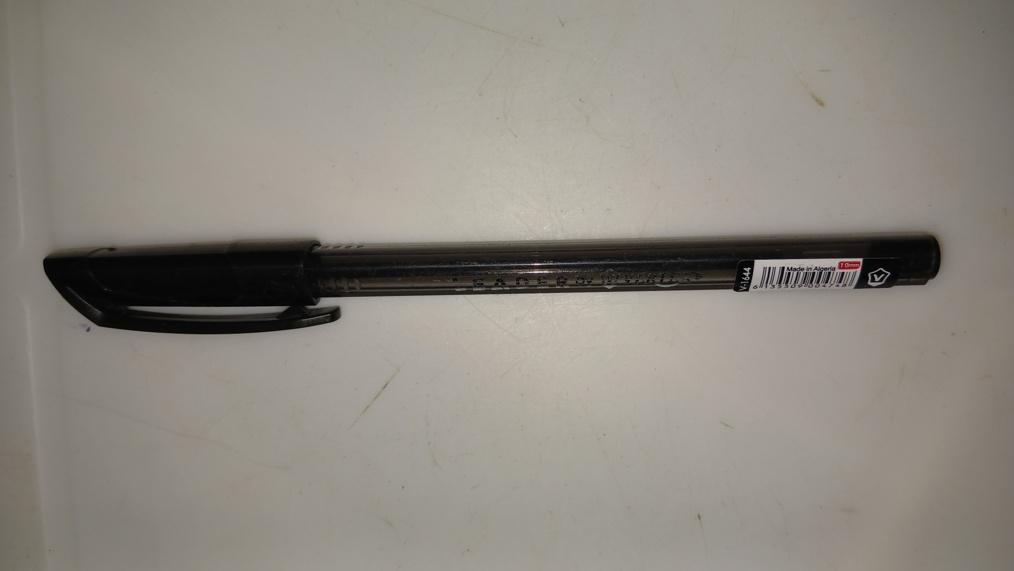pen: (42, 241, 940, 337)
